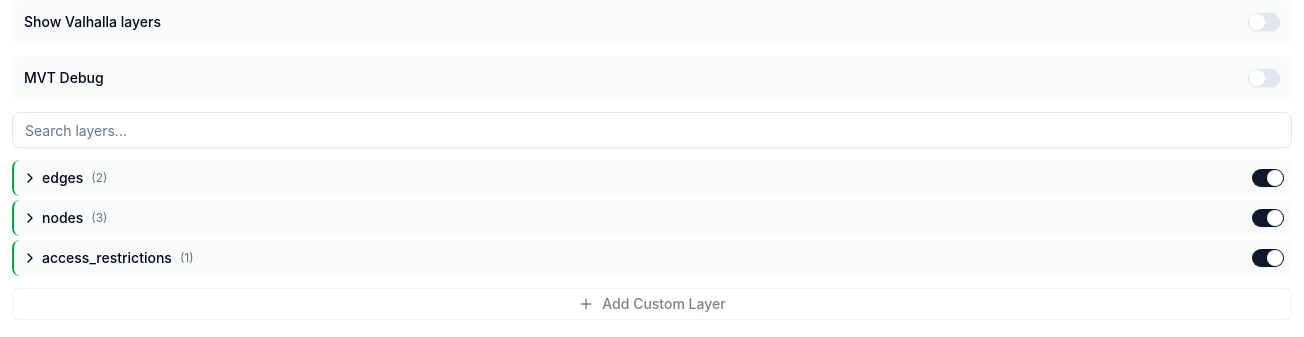
Test: TilesControl › search functionality › should filter layers by source layer name
This screenshot has width=1304, height=337.
Type "node" into the field with placeholder "Search layers..." at [652, 130], box [12, 112, 1292, 148]
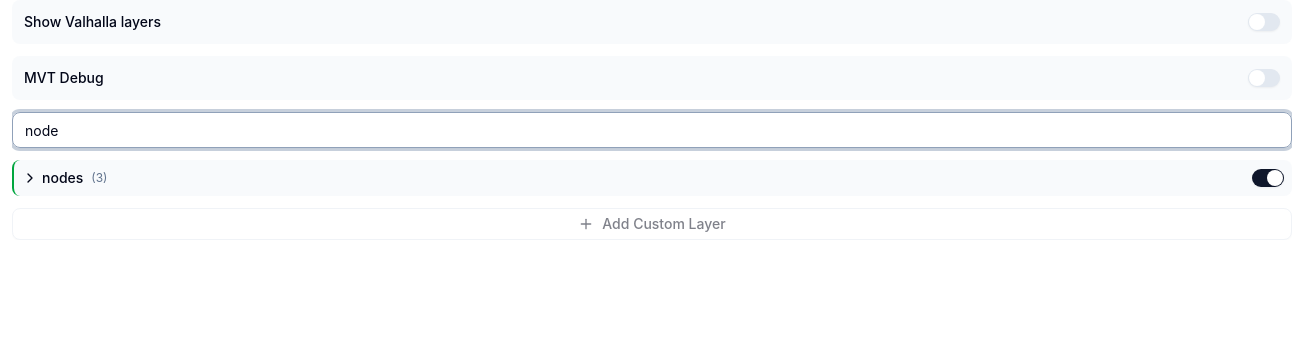
Check: the text "nodes" is shown, box [42, 168, 83, 188]
Check: the button "edges" is gone
